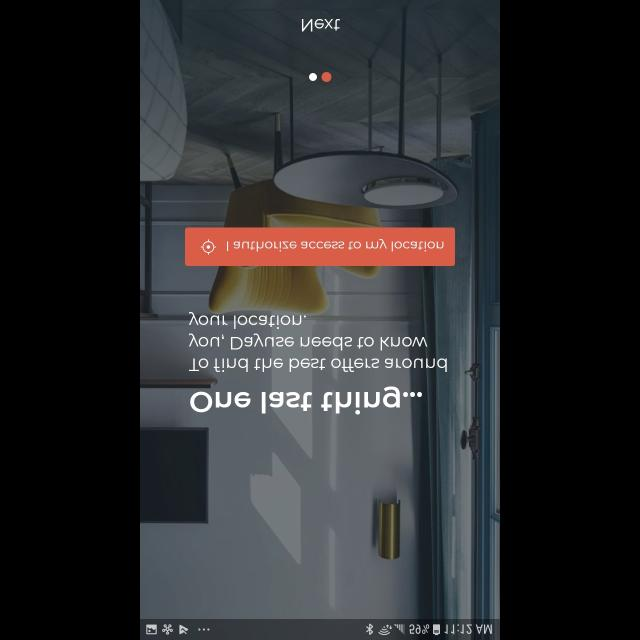backgroundimage: (140, 0, 500, 618)
pageindicator: (308, 72, 332, 82)
text: (189, 312, 447, 372), (190, 386, 422, 414), (302, 18, 341, 32)
textbutton: (185, 228, 455, 266)
uppertaskbar: (140, 618, 500, 640)
